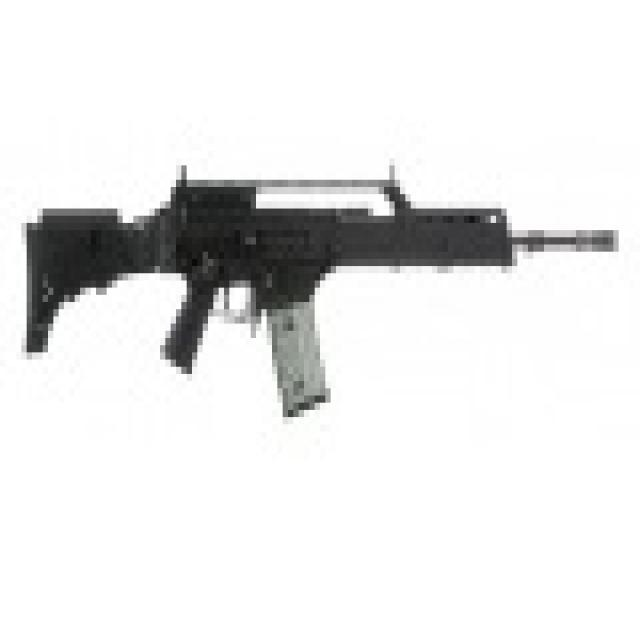Gun: (10, 93, 640, 424)
